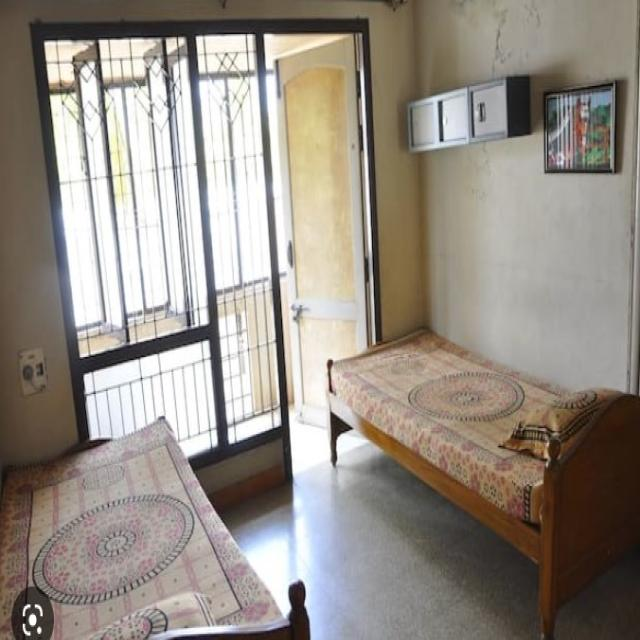Non_Damaged: (0, 68, 631, 630)
